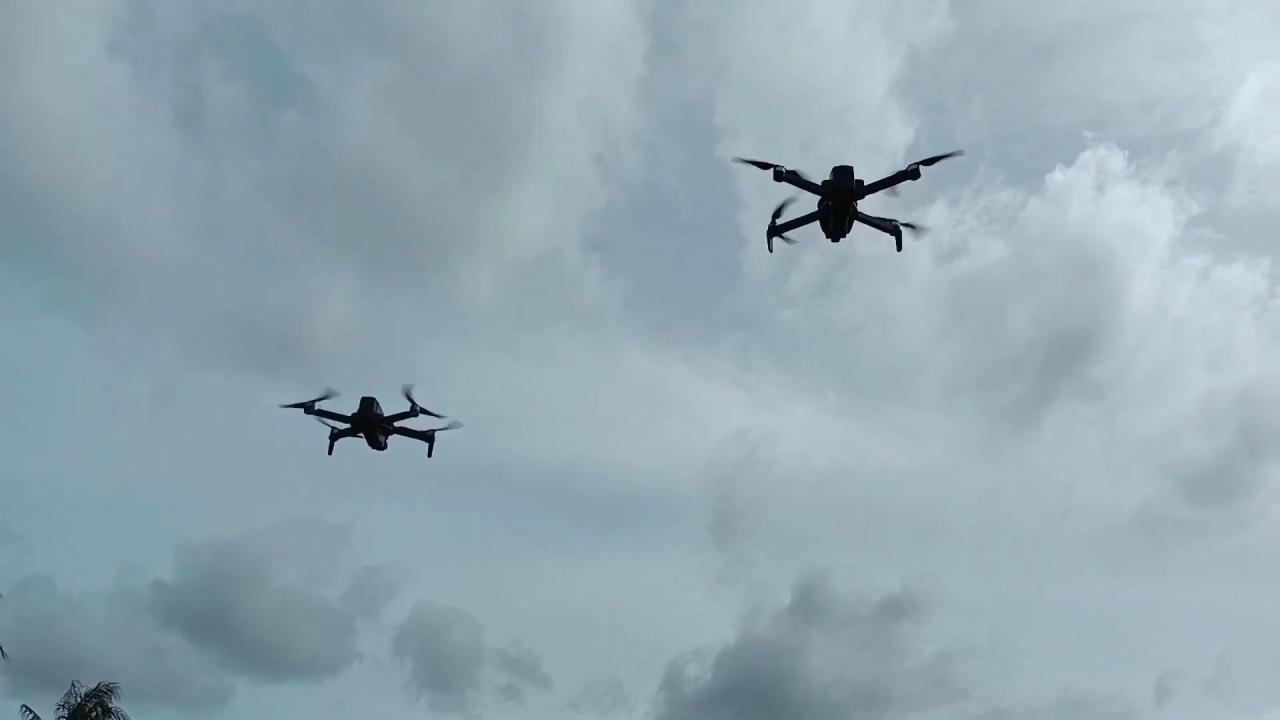Drone: (709, 126, 978, 267), (264, 372, 481, 469)
